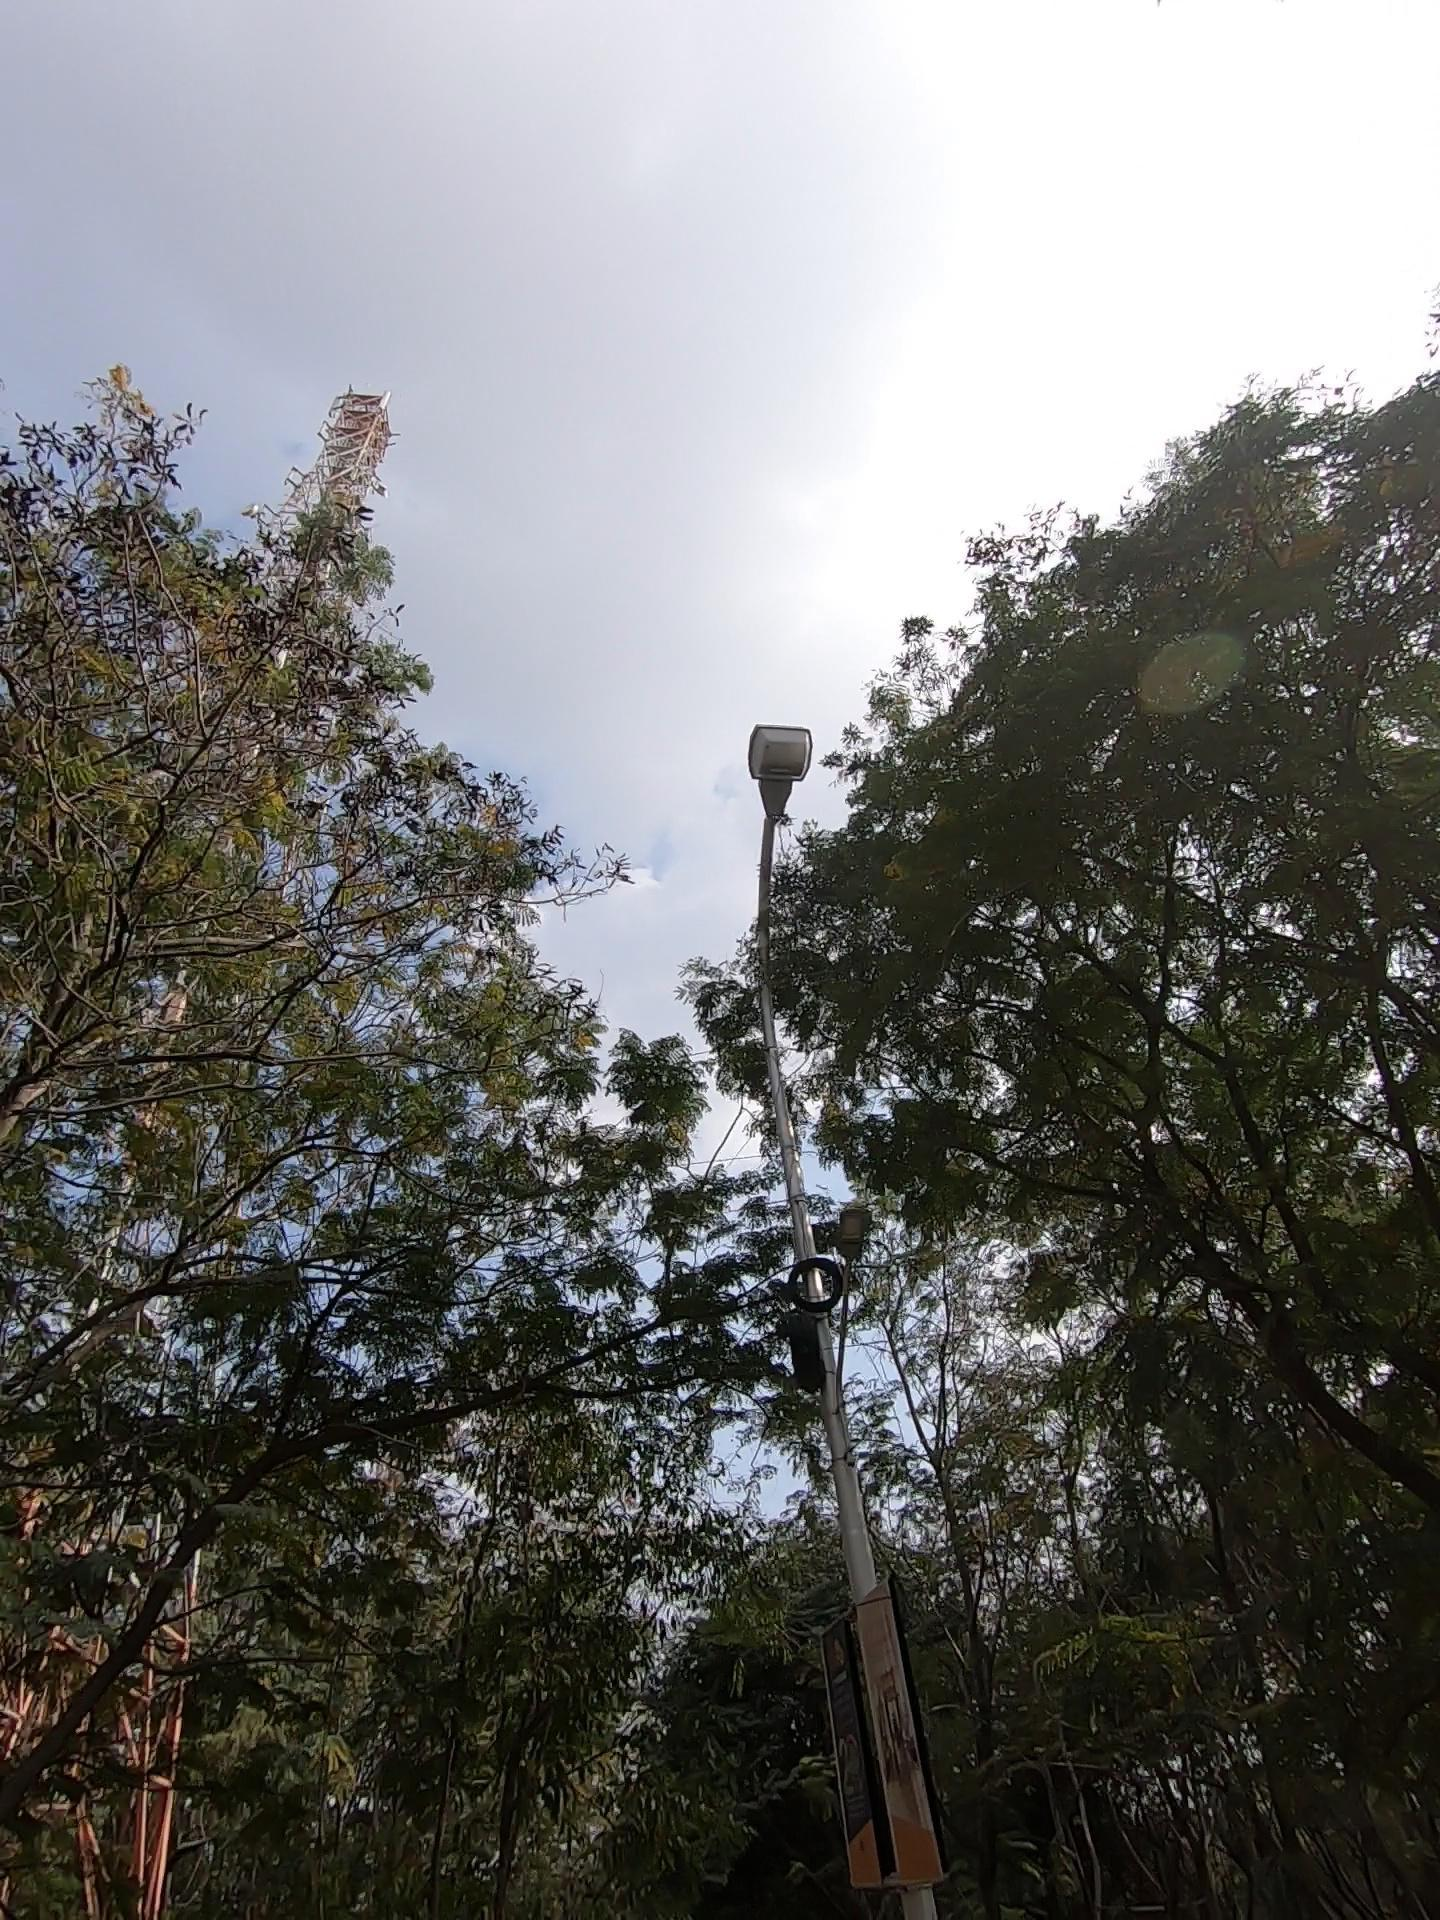off: (681, 652, 876, 1104)
